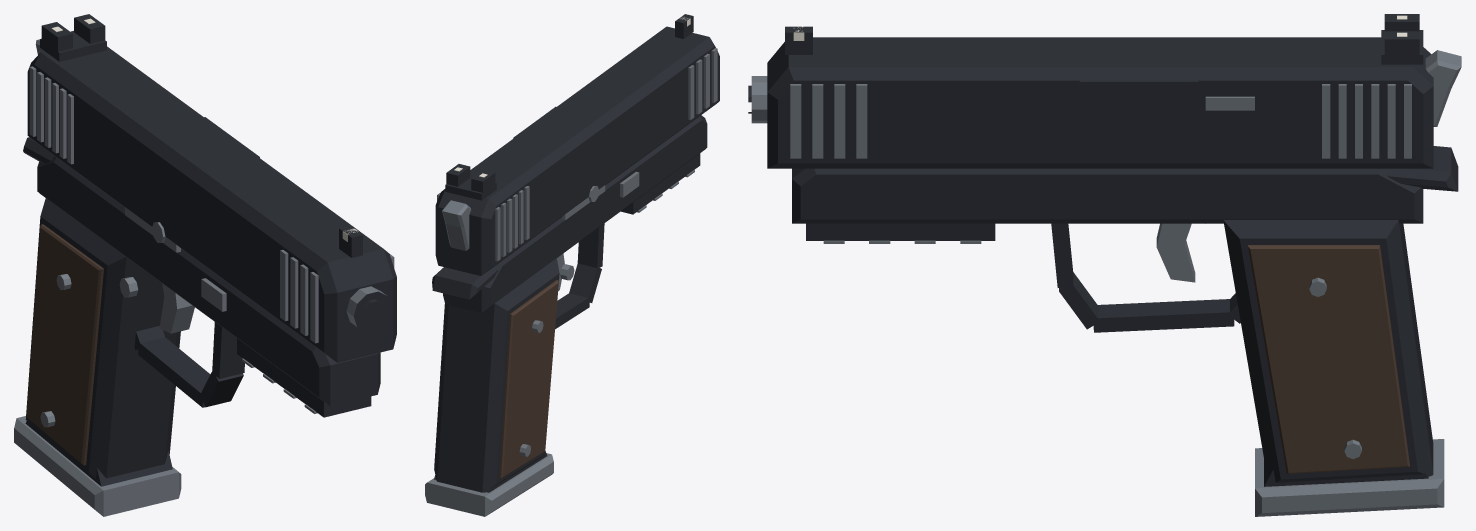
File: pistol_guard_detail.glb
3 views of the same model, side by side, from view 1: azimuth 30°, elevation 25°; view 2: azimuth 150°, elevation 25°; view 3: azimuth 270°, elevation 25° (orthographic). The views are drawn at different scales.
Visible parts, largest first — view 1: pistol_guard_detail_mesh, SLIDE, MAGAZINE, TRIGGER; view 2: pistol_guard_detail_mesh, SLIDE, MAGAZINE, HAMMER; view 3: pistol_guard_detail_mesh, SLIDE, MAGAZINE, TRIGGER, HAMMER.
Part boxes in pixels (x1,y1,x2,y2): pistol_guard_detail_mesh: (23, 137, 380, 478); SLIDE: (27, 14, 396, 362); MAGAZINE: (14, 416, 181, 516); TRIGGER: (159, 283, 194, 333); pistol_guard_detail_mesh: (432, 115, 707, 492); SLIDE: (435, 14, 719, 275); MAGAZINE: (425, 451, 553, 516); HAMMER: (442, 200, 471, 250); pistol_guard_detail_mesh: (792, 146, 1458, 482); SLIDE: (748, 14, 1433, 168); MAGAZINE: (1255, 439, 1444, 516); TRIGGER: (1156, 223, 1195, 282); HAMMER: (1425, 50, 1461, 126).
Size of the model in its own units: 0.037 by 0.1482 by 0.2035.
1 material, 1 textured.
